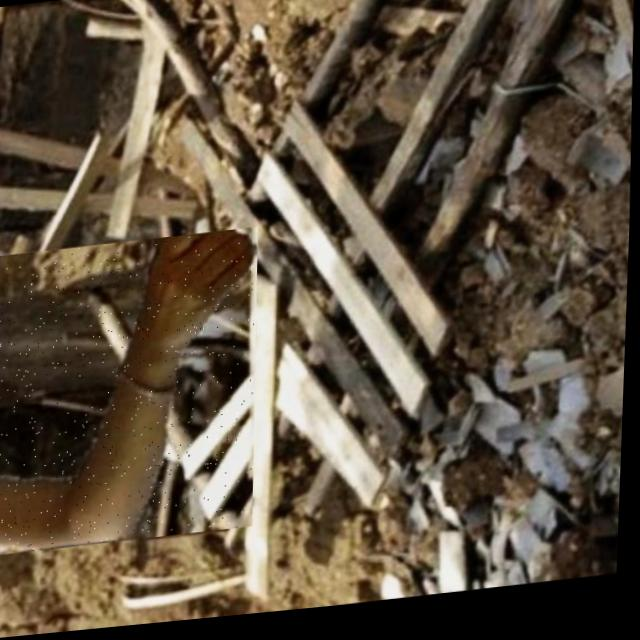Person in Rubble: (0, 229, 265, 555)
